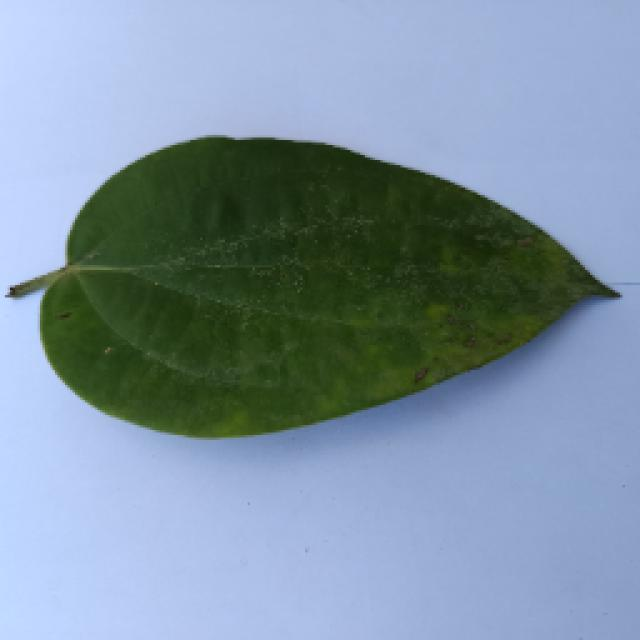slow-decline: (10, 122, 632, 438)
